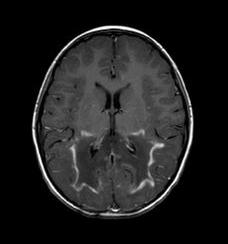Normal_Brain: (1, 1, 226, 244)
